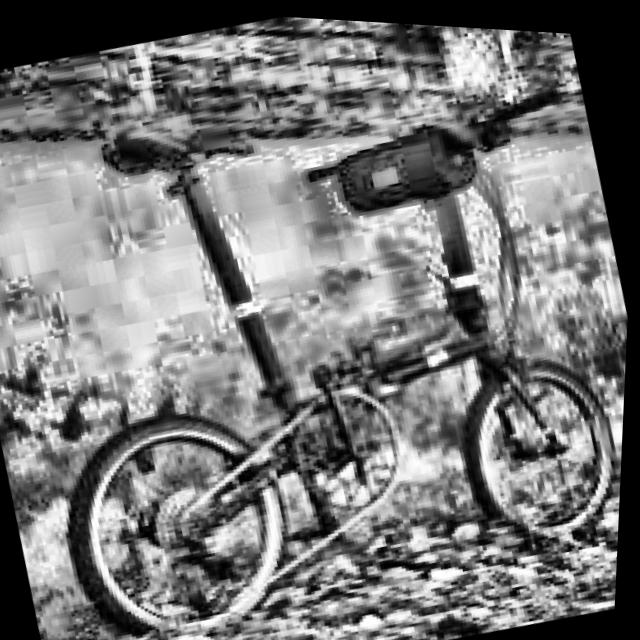bike: (0, 10, 640, 640)
